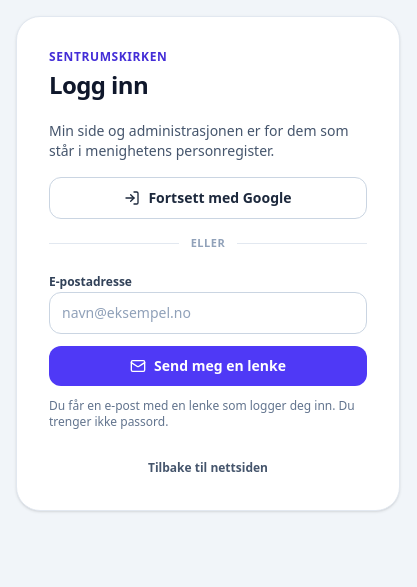
Scenario: Innloggingssiden › kan ikke lenken sendes, sies det, og skjemaet står
The width and height of the screenshot is (417, 587).
Type "ola@eksempel.no" into the field labelled "E-postadresse" at (208, 312), box top-left (49, 292), bottom-right (367, 334)
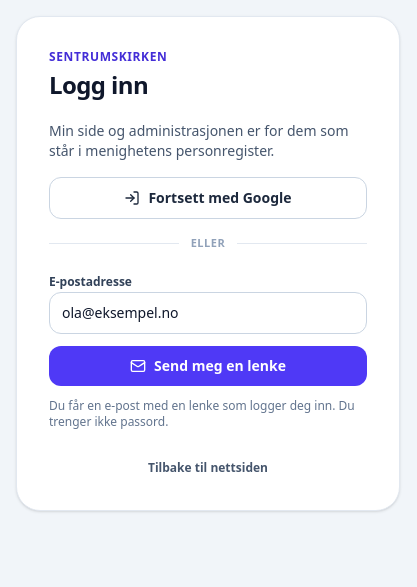
Click the button "Send meg en lenke" at (208, 366), box top-left (49, 346), bottom-right (367, 386)
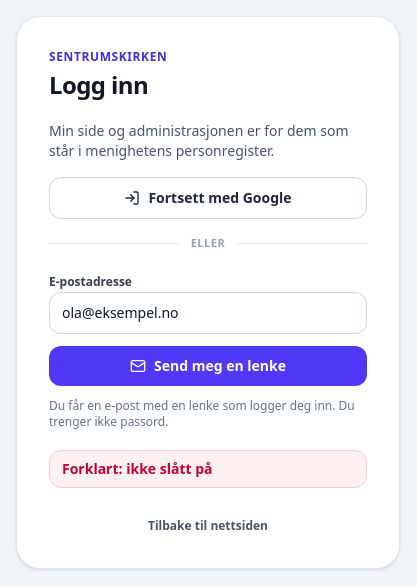
Expected: the message reads "Forklart: ikke slått på", top-left (62, 458), bottom-right (212, 478)
